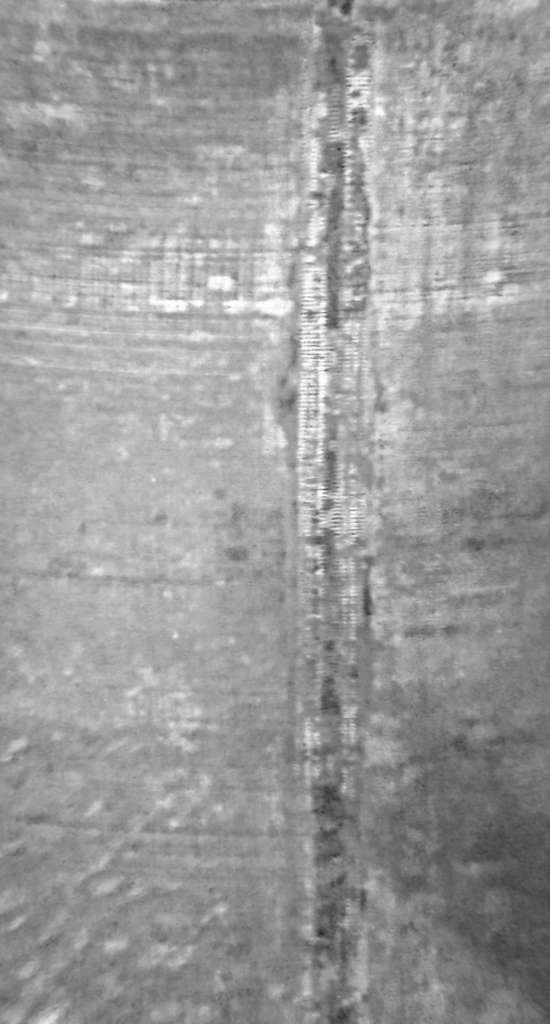splice: (300, 2, 382, 1024)
